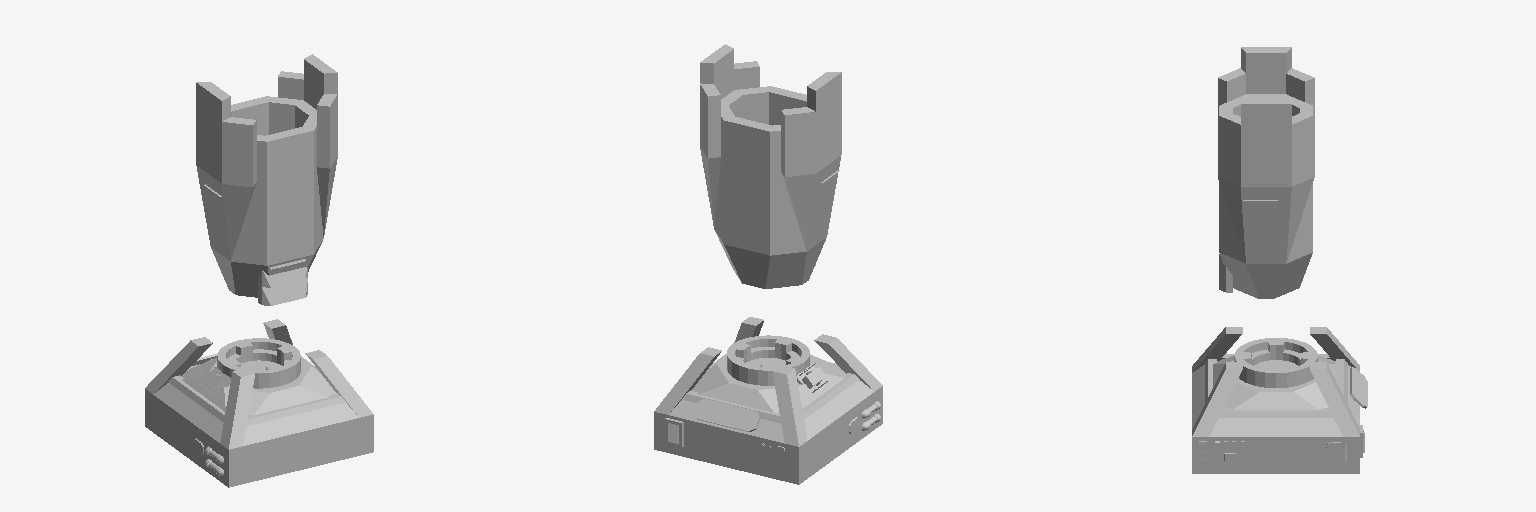
The model's file is power_coil-01-body.obj.
3 views of the same model, side by side, from view 1: azimuth 30°, elevation 25°; view 2: azimuth 150°, elevation 25°; view 3: azimuth 270°, elevation 25° (orthographic).
Visible parts, largest first — view 1: engine_ship-01, engine_core-01; view 2: engine_ship-01, engine_core-01; view 3: engine_core-01, engine_ship-01.
Part boxes in pixels (left/top/right/bottom): engine_ship-01: left=196, top=54, right=337, bottom=305; engine_core-01: left=145, top=319, right=373, bottom=487; engine_ship-01: left=700, top=44, right=841, bottom=288; engine_core-01: left=654, top=317, right=882, bottom=484; engine_core-01: left=1192, top=327, right=1367, bottom=473; engine_ship-01: left=1218, top=47, right=1314, bottom=298.
Bounding box in the file's own units: 2.61 × 6 × 2.61.